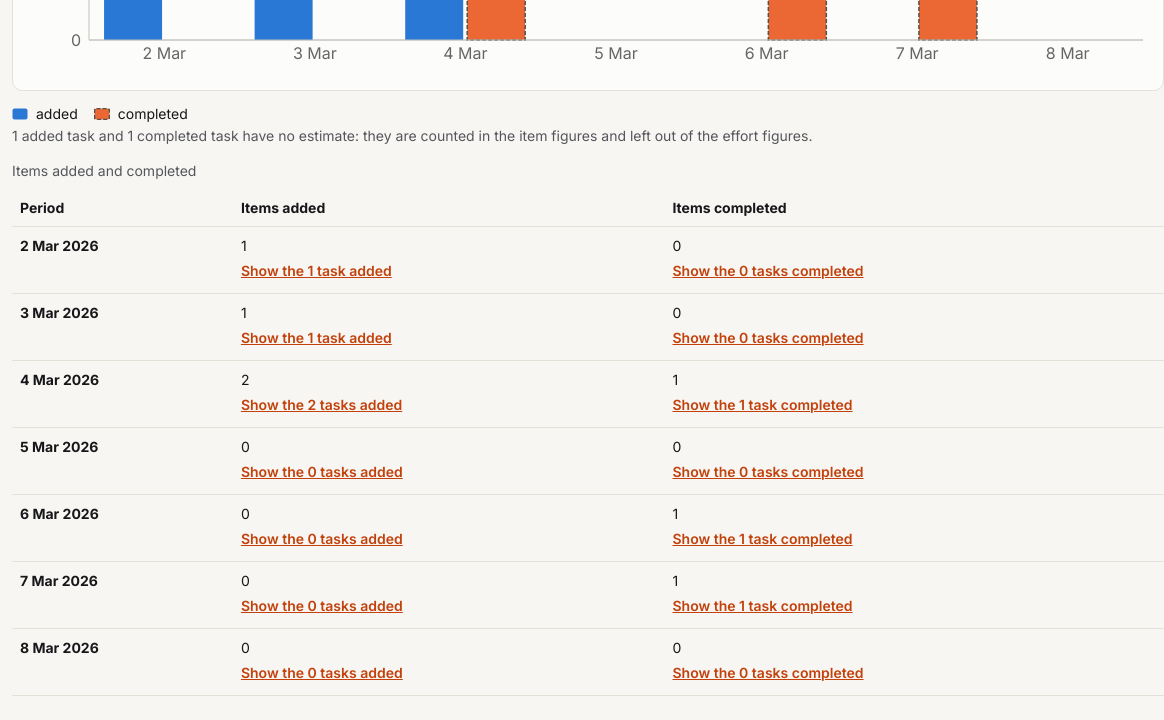
Test: BSOD-321 (T081) — the drill-down panel › lists the chart's own tasks behind the chart's own figure
(page scrolled)
Click the button with test id "work-added-completed-drill-down" showing "Show the 2 tasks added" at (322, 404), box [241,394,402,415]
(page scrolled)
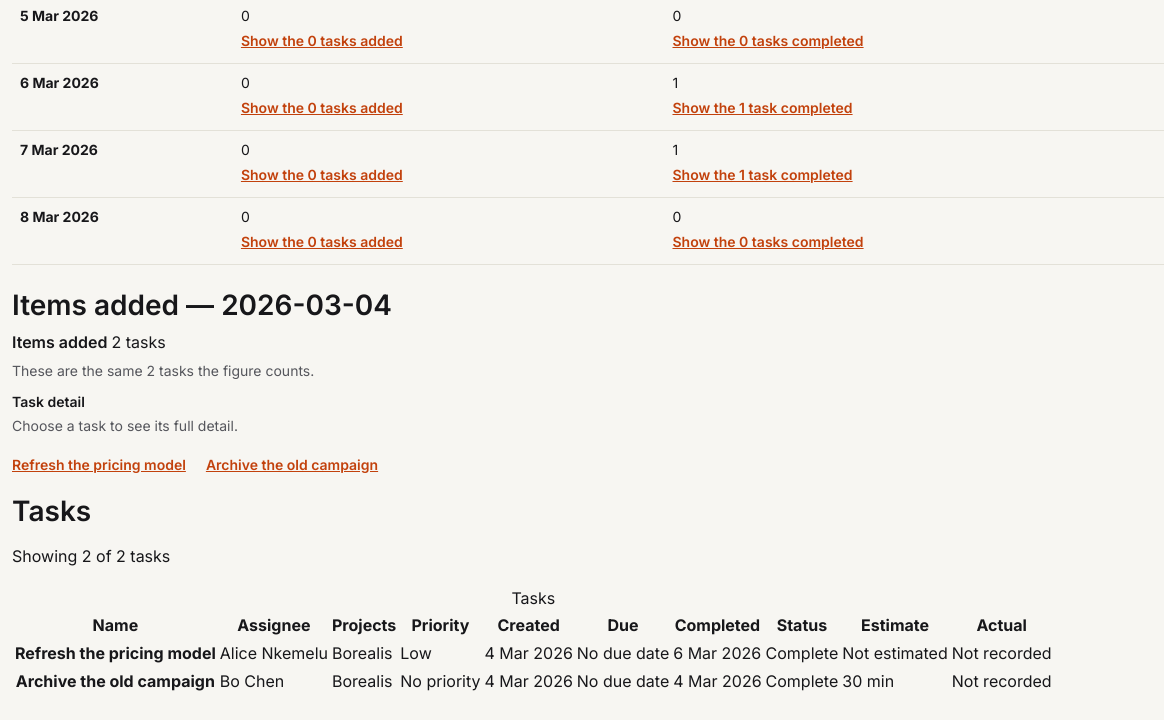
Expected: the text with test id "drill-down-panel-figure-value" shows "2", [112,332,166,352]
Expected: the text with test id "drill-down-panel-parity" reads "These are the same 2 tasks the figure counts.", [12,362,314,379]
